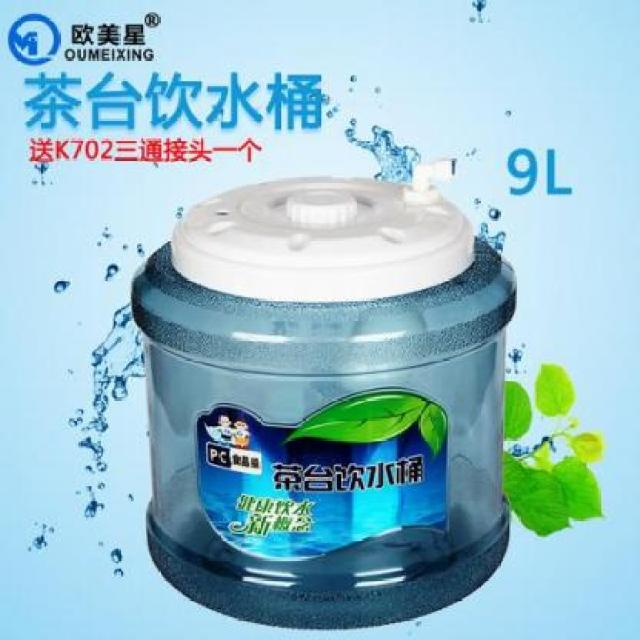coolerbottle: (128, 232, 523, 637)
